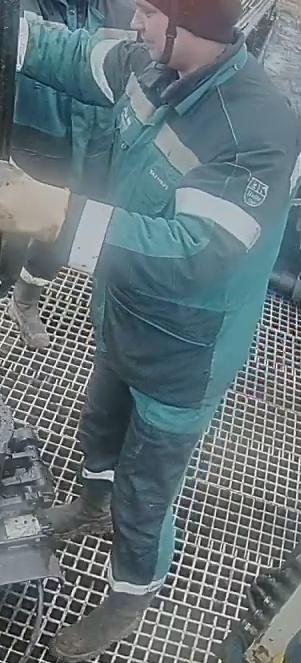vest: (86, 32, 296, 410)
